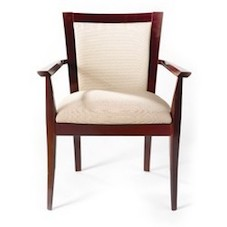chair: (31, 5, 193, 224)
